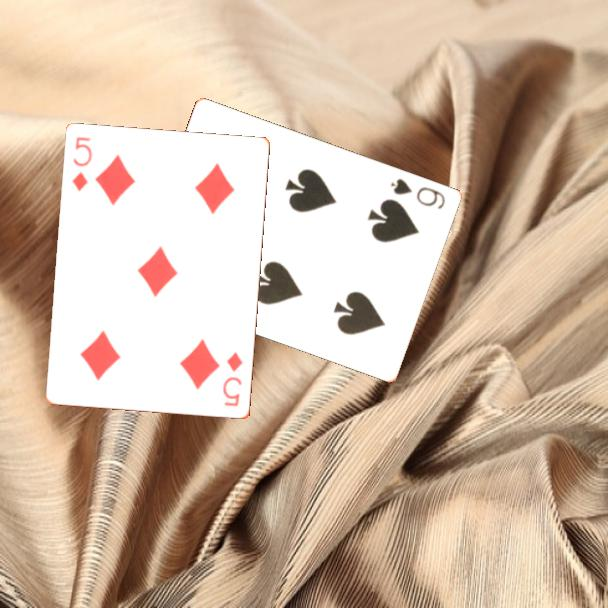d05: (220, 348, 246, 410), (69, 134, 95, 195)
s06: (388, 175, 449, 212)
